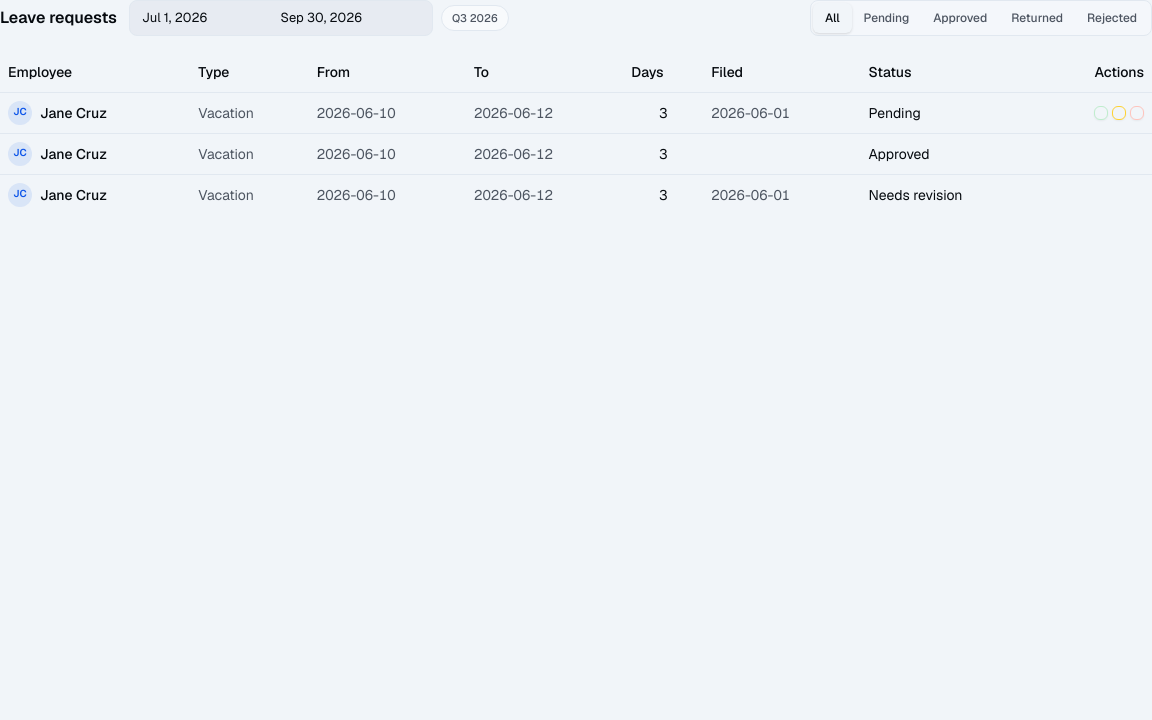
it: LeaveSection — review actions › the return dialog can be cancelled
Click the button with test id "leave-return" at [1119, 112], box x1=1112 y1=106 x2=1126 y2=120
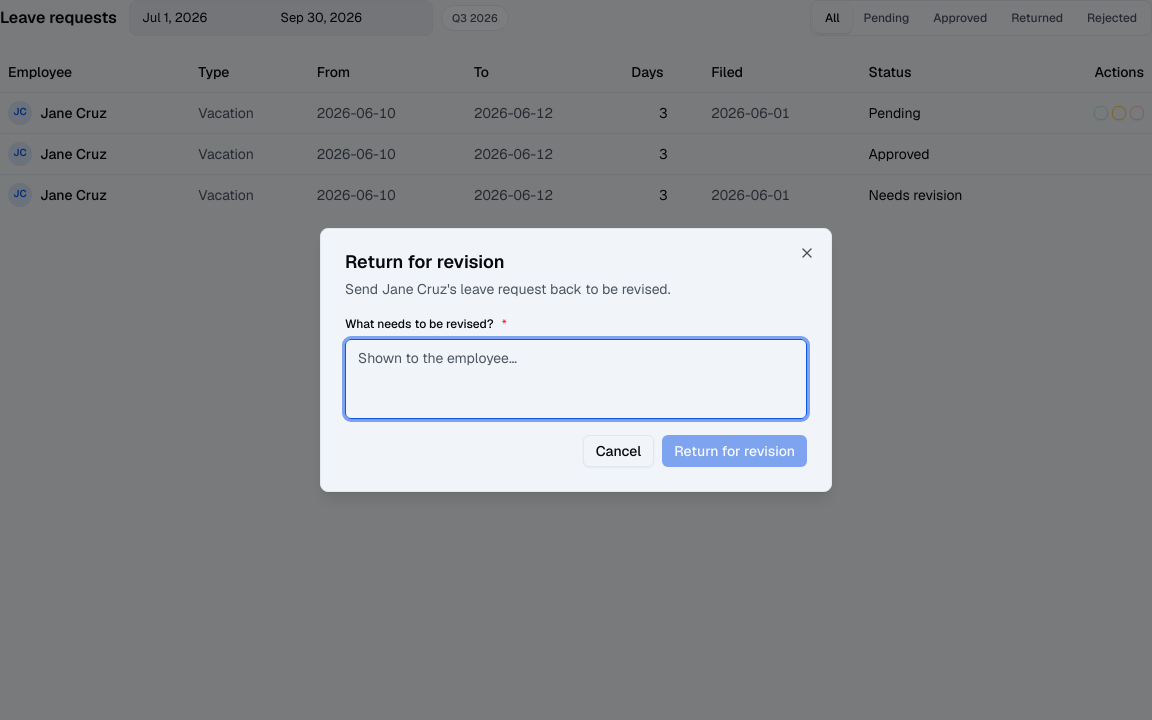
Click the button "Cancel" at [618, 451], box x1=583 y1=435 x2=654 y2=467
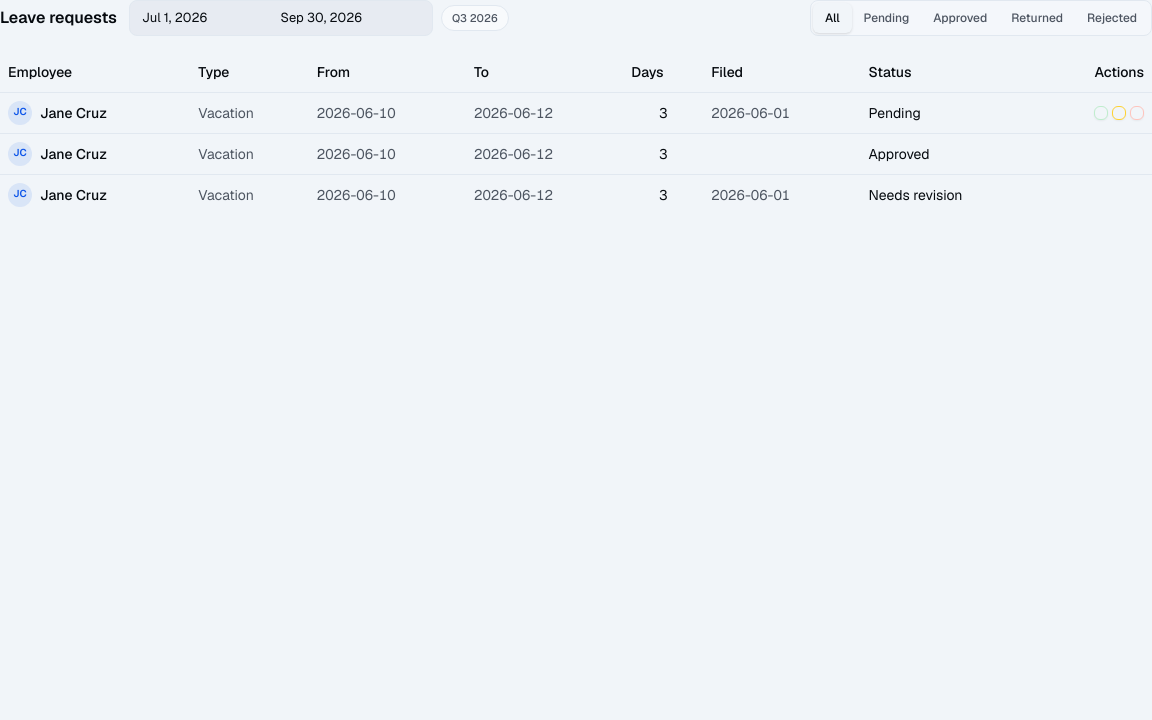
Expected: the dialog is gone
